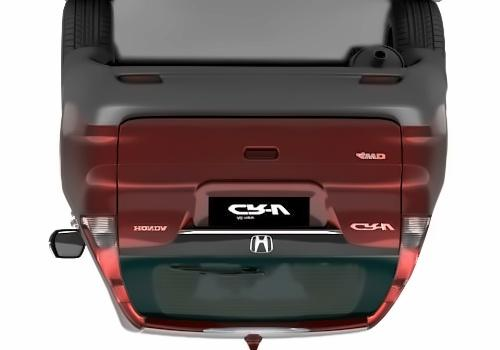Car boot: (114, 110, 407, 337)
Rear bumper: (53, 46, 463, 208)
Rear light - -L-: (392, 208, 435, 256)
Rear light - -R-: (70, 208, 125, 251)
Side mirror - -R-: (42, 222, 92, 265)
